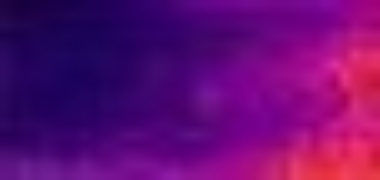Shadow: (1, 1, 241, 161)
